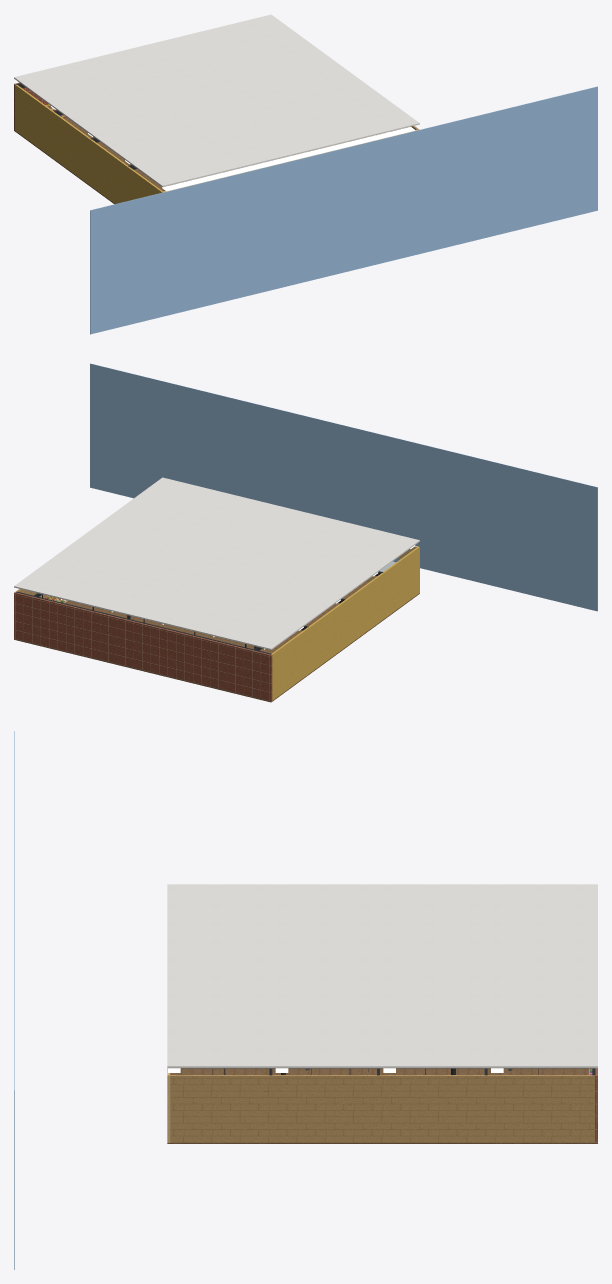
Rendered from interior.glb.
3 views of the same model, one above another, from view 1: azimuth 30°, elevation 25°; view 2: azimuth 150°, elevation 25°; view 3: azimuth 270°, elevation 25° (orthographic). The views are drawn at different scales.
Visible parts, largest first — view 1: Sky_Front, Store_IN_Ceiling, Walls_W_00, Store_IN_HearthLightPanelShed, House_Floor_Hearth; view 2: Sky_Front, Store_IN_Ceiling, Walls_Back_00, Walls_W_00, House_Floor_Hearth, Store_IN_HearthSteel; view 3: Store_IN_Ceiling, Store_IN_HearthTimber, House_Floor_Hearth.
Part boxes in pixels (box(x1,y1,x2,y2)): Sky_Front: box(90, 86, 597, 334); Store_IN_Ceiling: box(14, 14, 419, 187); Walls_W_00: box(15, 84, 163, 203); Store_IN_HearthLightPanelShed: box(50, 106, 415, 191); House_Floor_Hearth: box(14, 118, 165, 204); Sky_Front: box(90, 363, 597, 611); Store_IN_Ceiling: box(14, 477, 419, 649); Walls_Back_00: box(14, 592, 272, 701); Walls_W_00: box(271, 546, 419, 700); House_Floor_Hearth: box(14, 581, 419, 702); Store_IN_HearthSteel: box(16, 571, 383, 654); Store_IN_Ceiling: box(167, 884, 597, 1068); Store_IN_HearthTimber: box(167, 1068, 595, 1142); House_Floor_Hearth: box(167, 1068, 597, 1143).
Bounding box in the file's own units: 60 × 14 × 41.23.
Materials: 35 (33 with a texture image).
